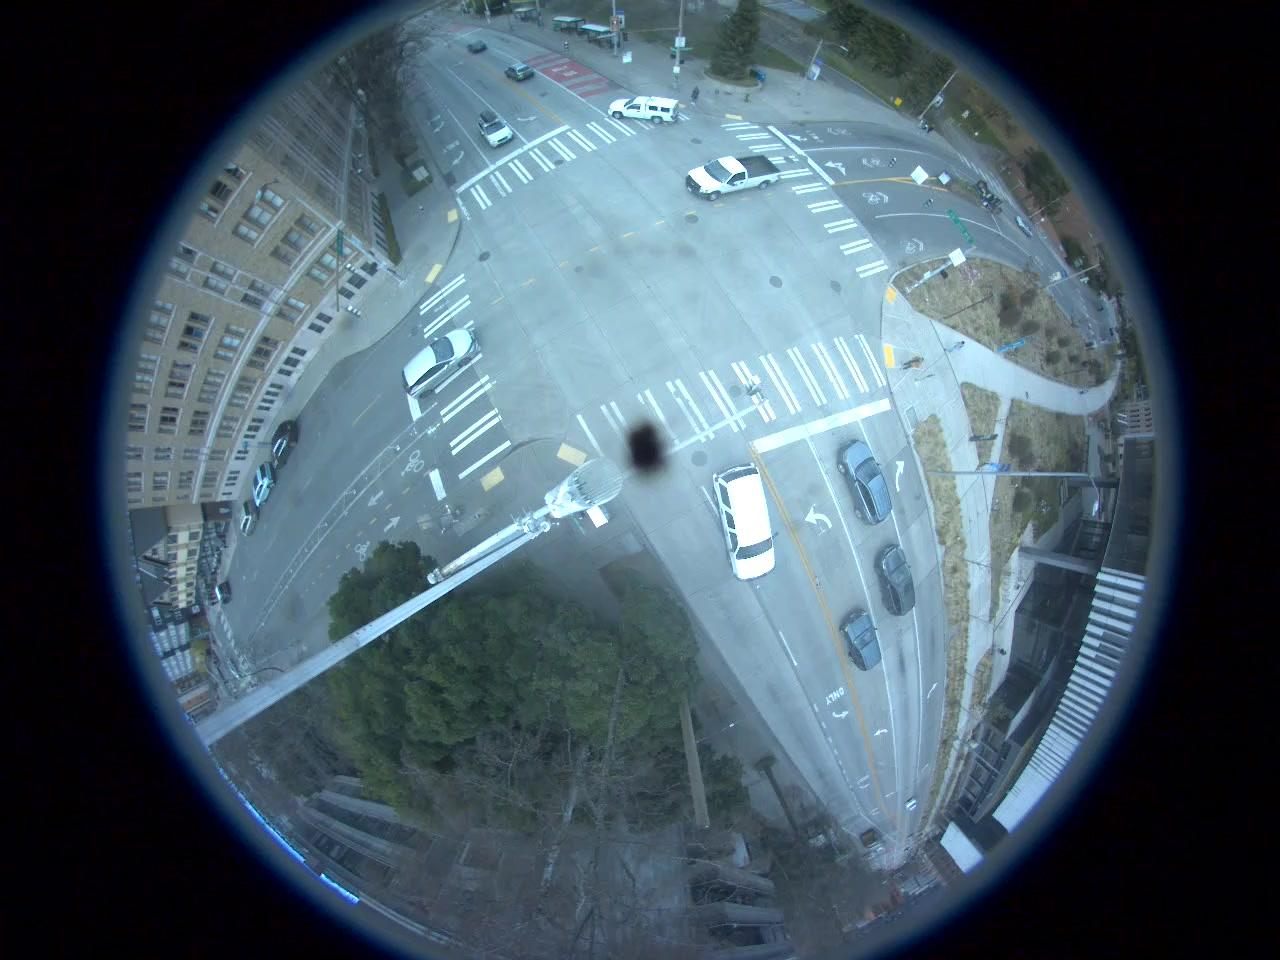car: (712, 462, 782, 584), (839, 437, 894, 528), (405, 333, 484, 396), (695, 153, 773, 195), (842, 604, 888, 671), (875, 544, 917, 614), (609, 98, 679, 124), (480, 110, 515, 150), (272, 422, 300, 472), (252, 464, 276, 503), (238, 500, 261, 538), (506, 64, 540, 80)
person: (900, 356, 930, 372), (942, 339, 968, 355), (689, 82, 702, 108)
